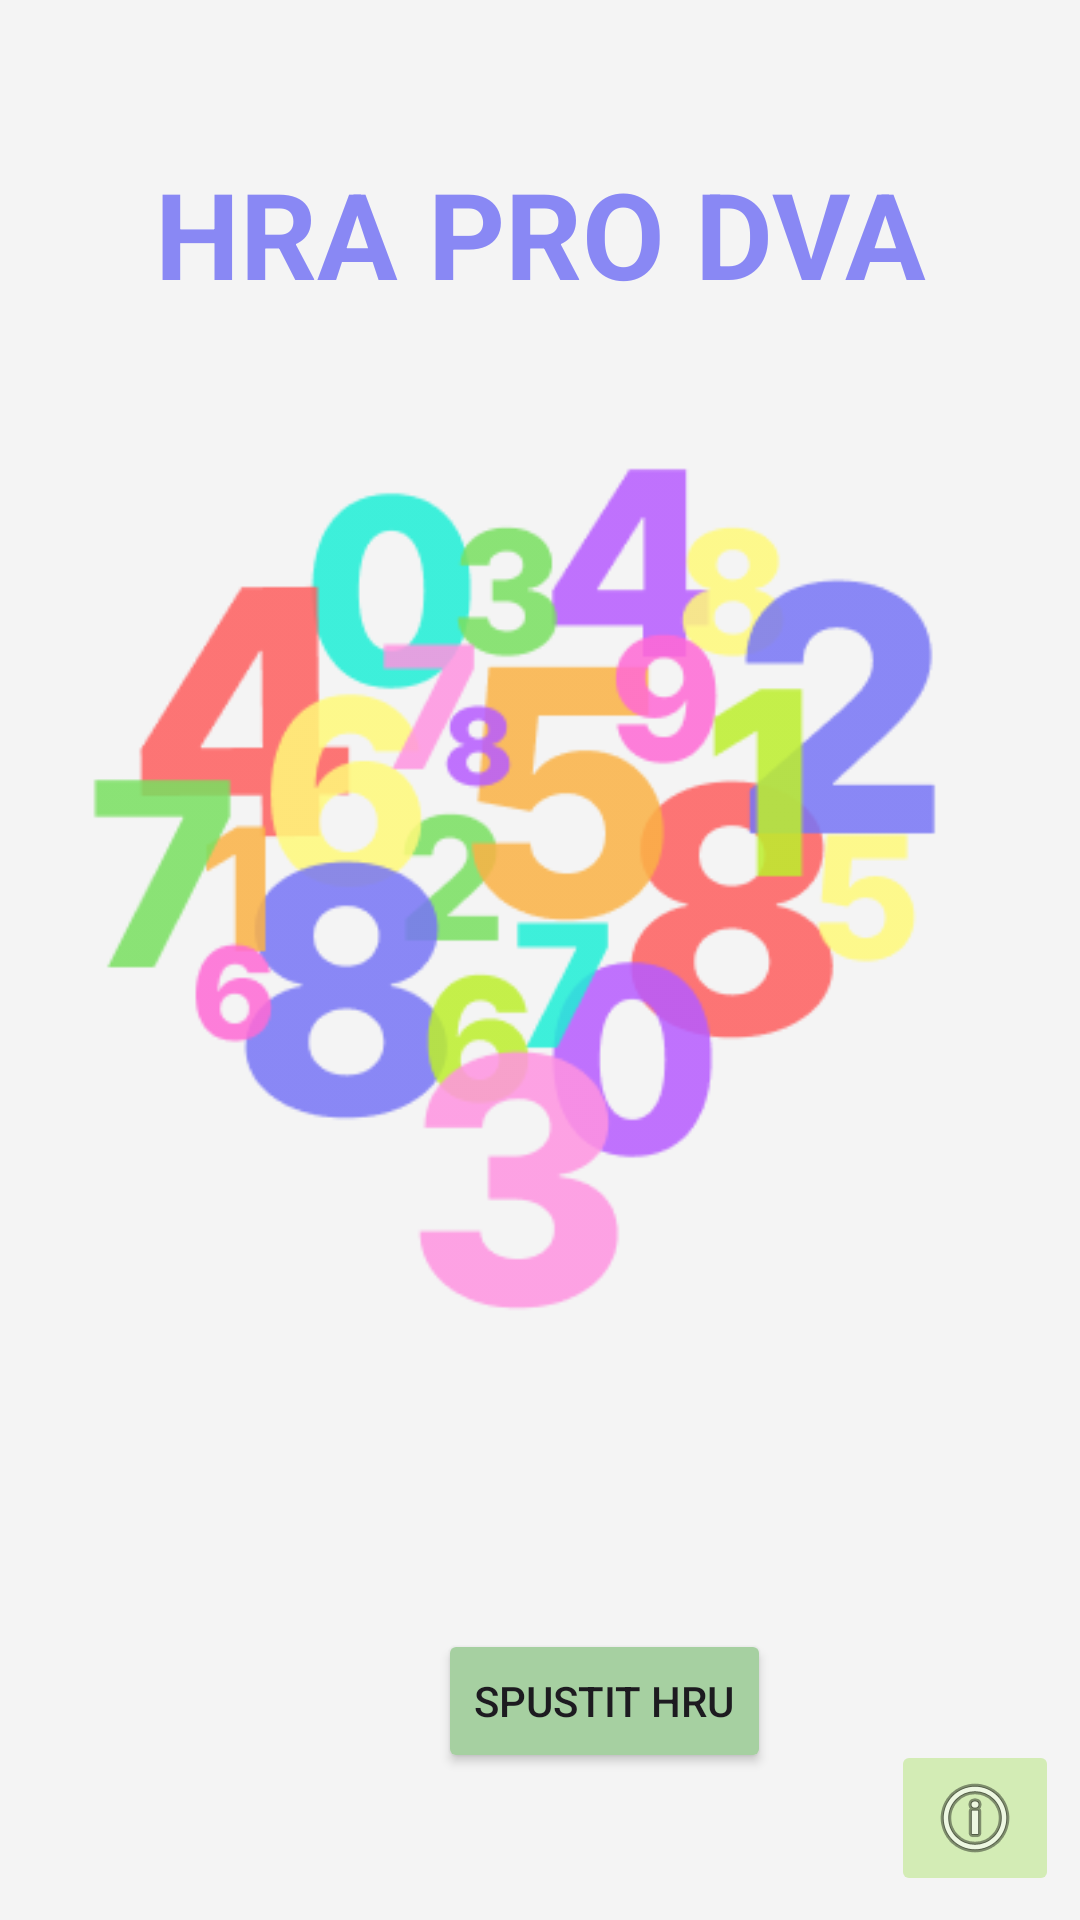

Screen size 1080w x 1920h. Icon name, then its center in pixels as point (x, y):
navodik: point (975, 1818)
